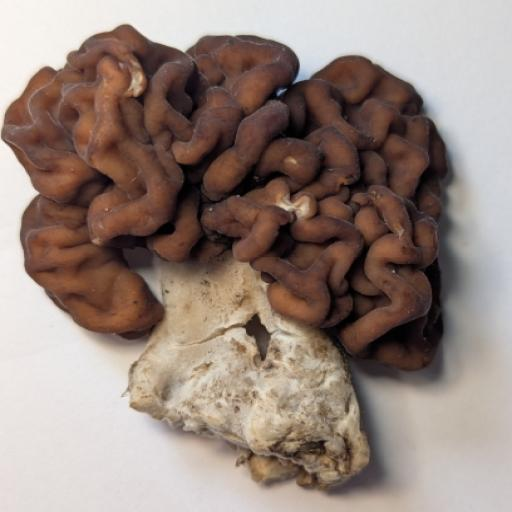False Morel: (0, 23, 450, 490)
